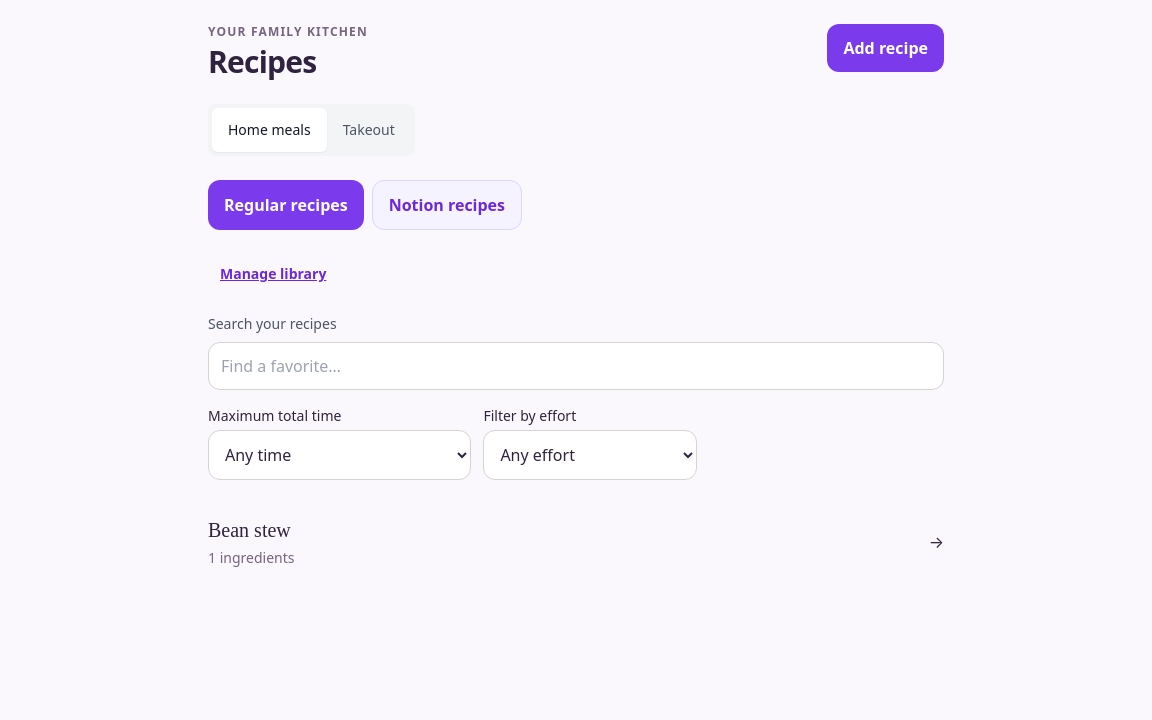
Scenario: dedicated Recipes destination › offers import, export and selective deletion inside Manage library
The image size is (1152, 720).
Click the button "Manage library".
click(273, 274)  # box [208, 250, 338, 298]
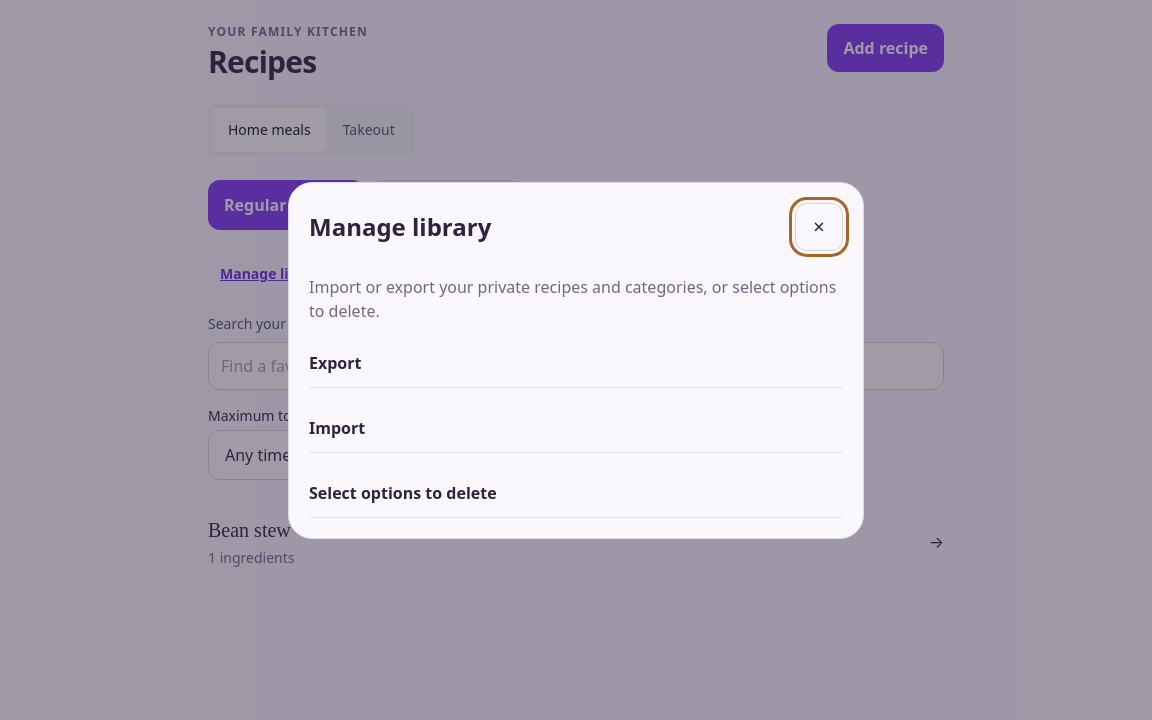
Result: the button "Export" is shown at [309, 338, 843, 388]
Result: the button "Import" is shown at [309, 404, 843, 452]
Click the button "Select options to delete".
click(403, 492)  # box [309, 468, 843, 518]
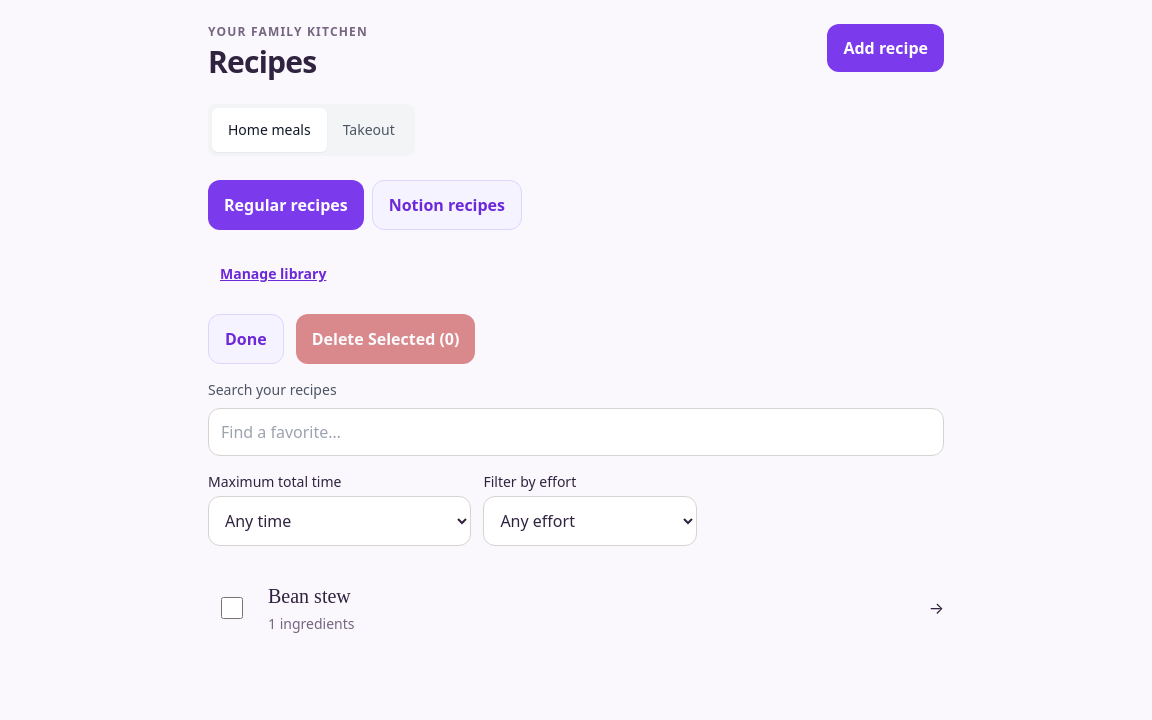
Result: the dialog is gone
Result: the checkbox named "Select Bean stew for deletion" is shown at [221, 597, 243, 619]
